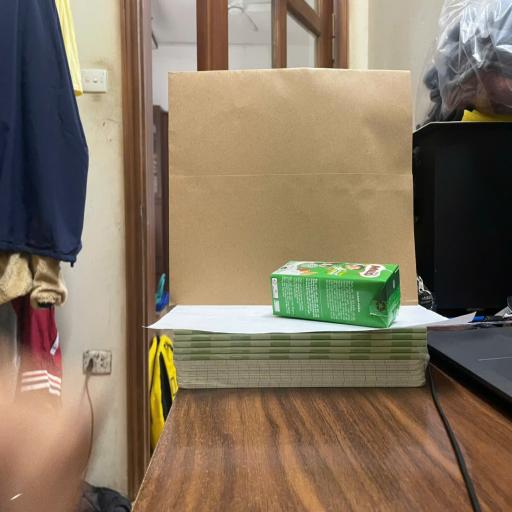milo: (269, 260, 401, 326)
